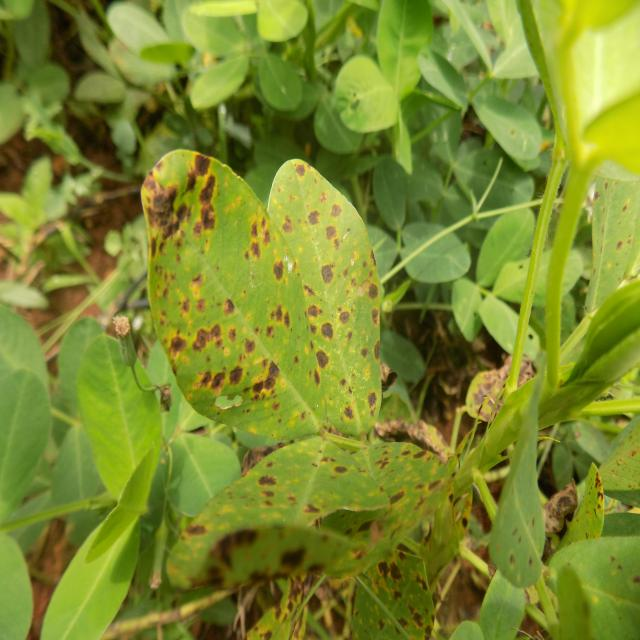Ground nut_healthy: (80, 326, 151, 494)
Ground nut_tikka leaf spot: (138, 153, 289, 417), (264, 156, 386, 433), (585, 146, 634, 302)
